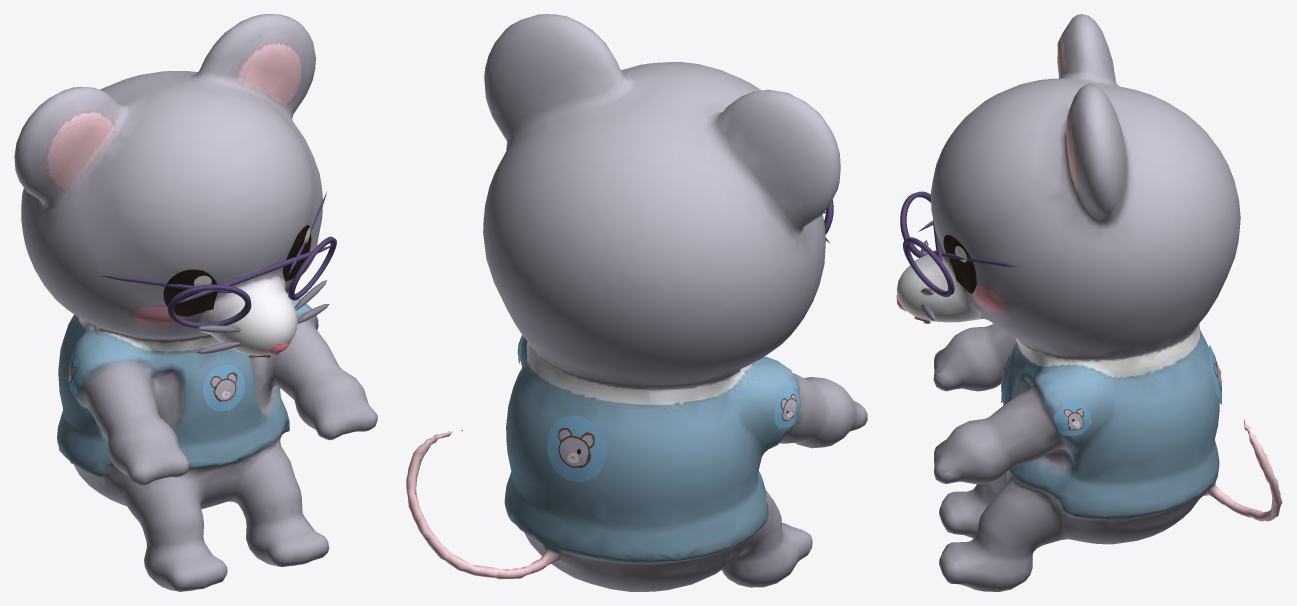
The model's file is mouse.glb.
3 renders of one model, left to right at view 1: azimuth 30°, elevation 25°; view 2: azimuth 150°, elevation 25°; view 3: azimuth 270°, elevation 25°, orthographic. The views are drawn at different scales.
Visible parts, largest first — view 1: chibi, face; view 2: chibi, face; view 3: chibi, face.
Boxes of the visible parts, x1,y1,x2,y2 form: chibi: (14, 14, 377, 591); face: (68, 192, 336, 411); chibi: (406, 14, 867, 591); face: (517, 200, 833, 481); chibi: (897, 14, 1282, 591); face: (896, 191, 1222, 435).
Bounding box in the file's own units: 0.7782 × 1.23 × 0.8424.
Materials: 31 (1 with a texture image).
